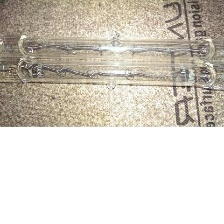light_bulb: (0, 57, 219, 87), (4, 34, 220, 64)
